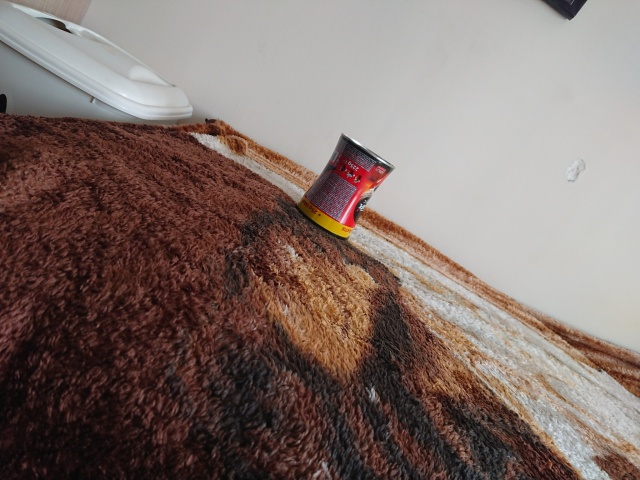Nescafe Classic 225g: (293, 130, 397, 243)
